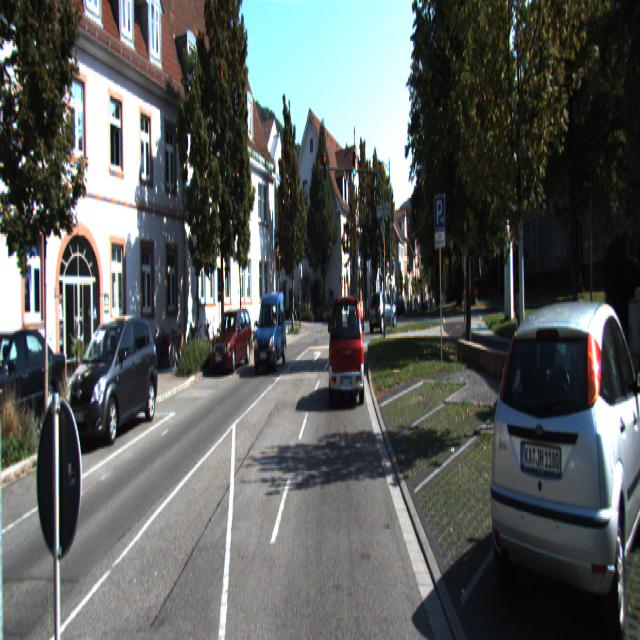Car: (486, 294, 639, 638), (63, 315, 160, 448), (0, 326, 67, 451), (330, 296, 366, 407), (208, 312, 254, 377), (253, 292, 287, 374), (369, 288, 399, 333)
